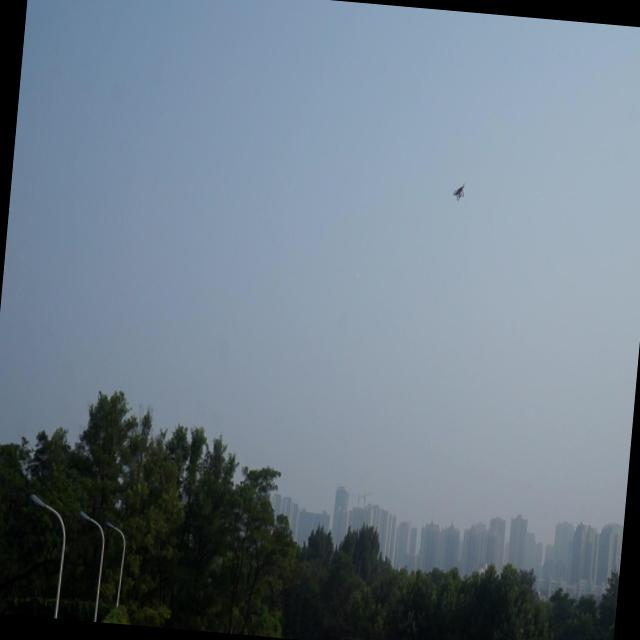drone: (449, 180, 469, 202)
